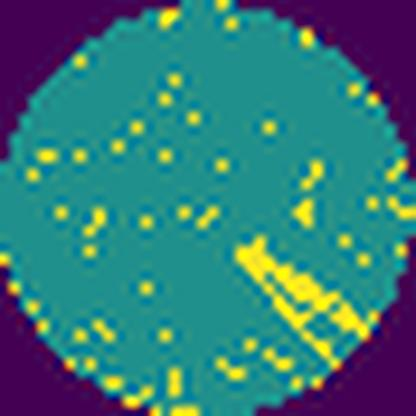Loc: (233, 231, 367, 371)
